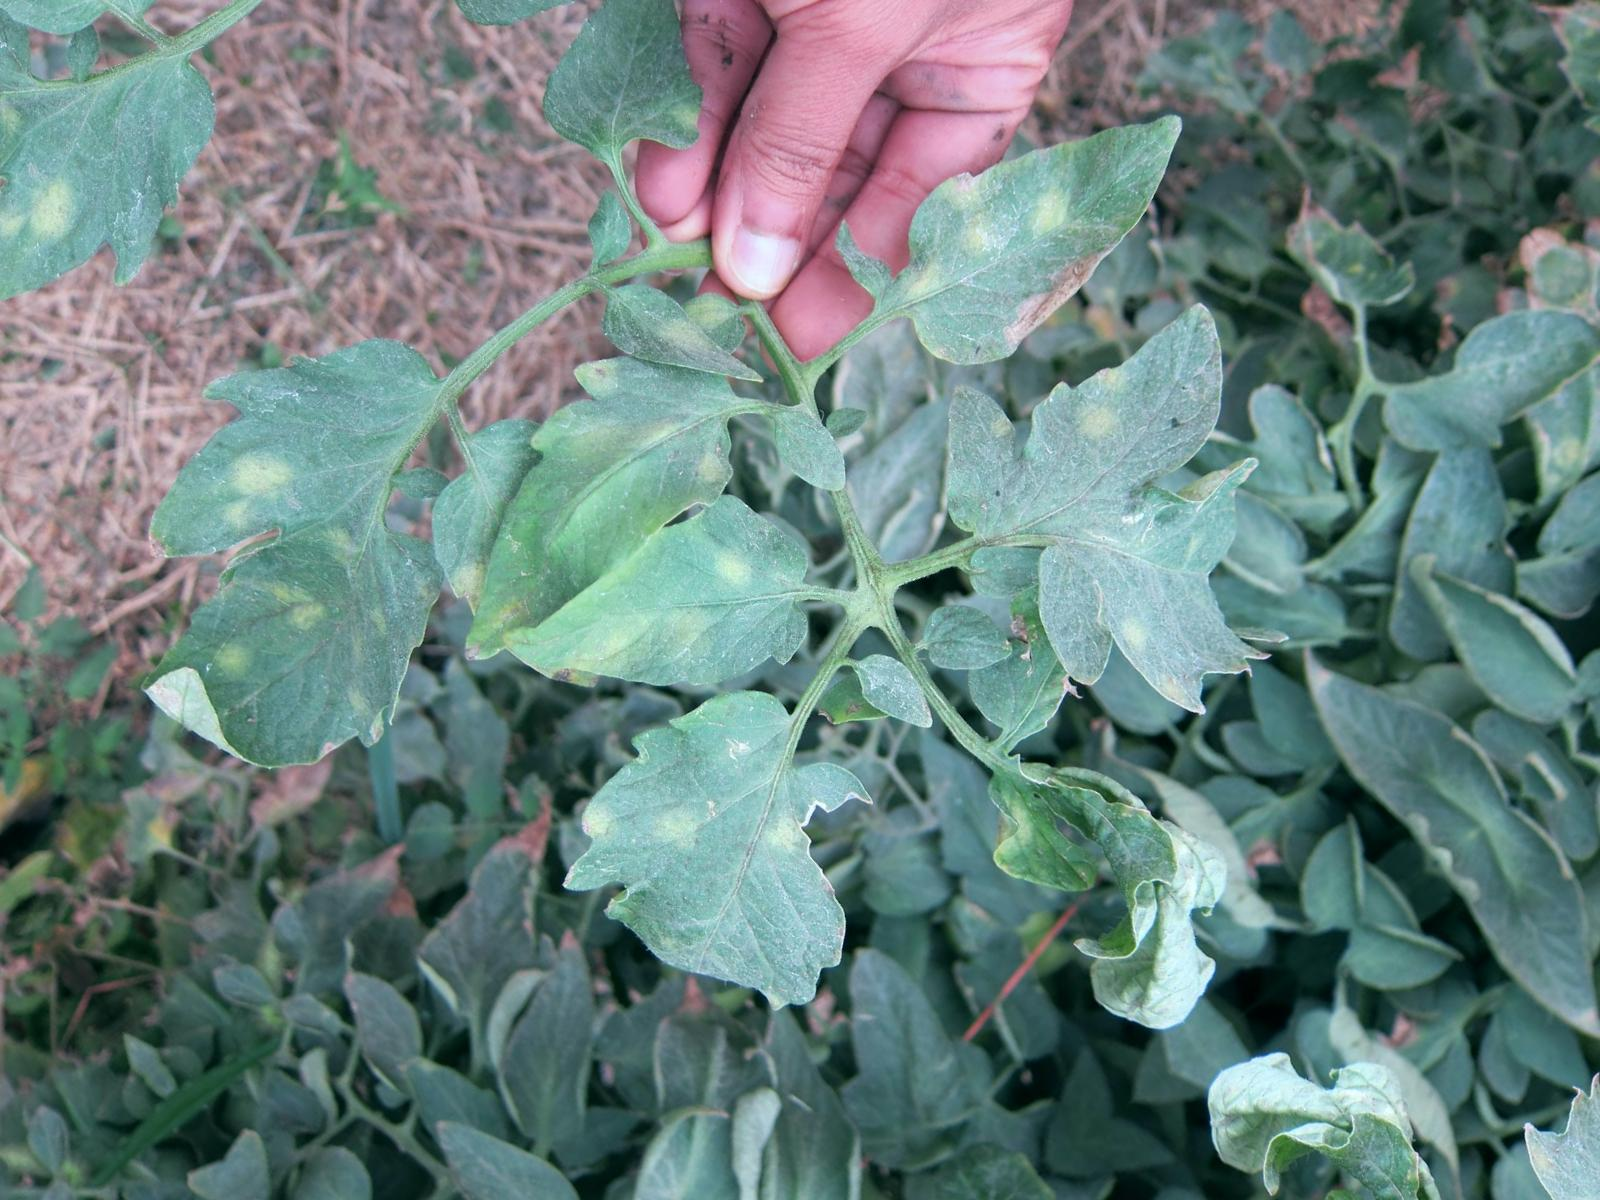Tomato mold leaf: (893, 243, 1420, 779), (44, 239, 514, 663), (514, 635, 957, 1078), (335, 253, 792, 673), (828, 15, 1273, 435), (86, 456, 521, 874), (430, 391, 849, 806), (941, 694, 1293, 1065), (495, 0, 775, 225)
